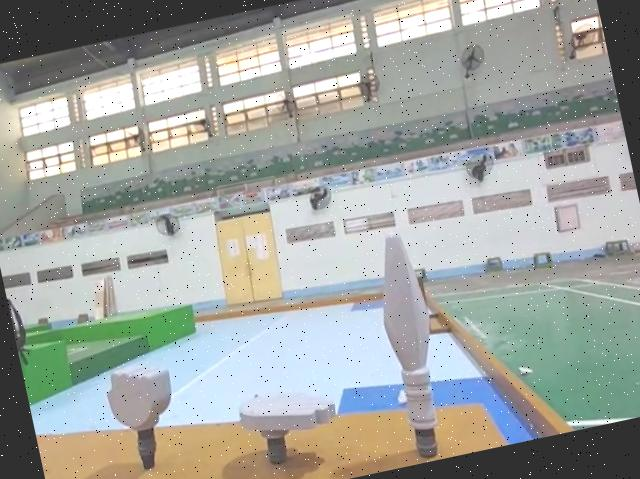Fist: (99, 359, 190, 478)
Hand: (233, 379, 343, 471)
Sph: (362, 228, 462, 466)
